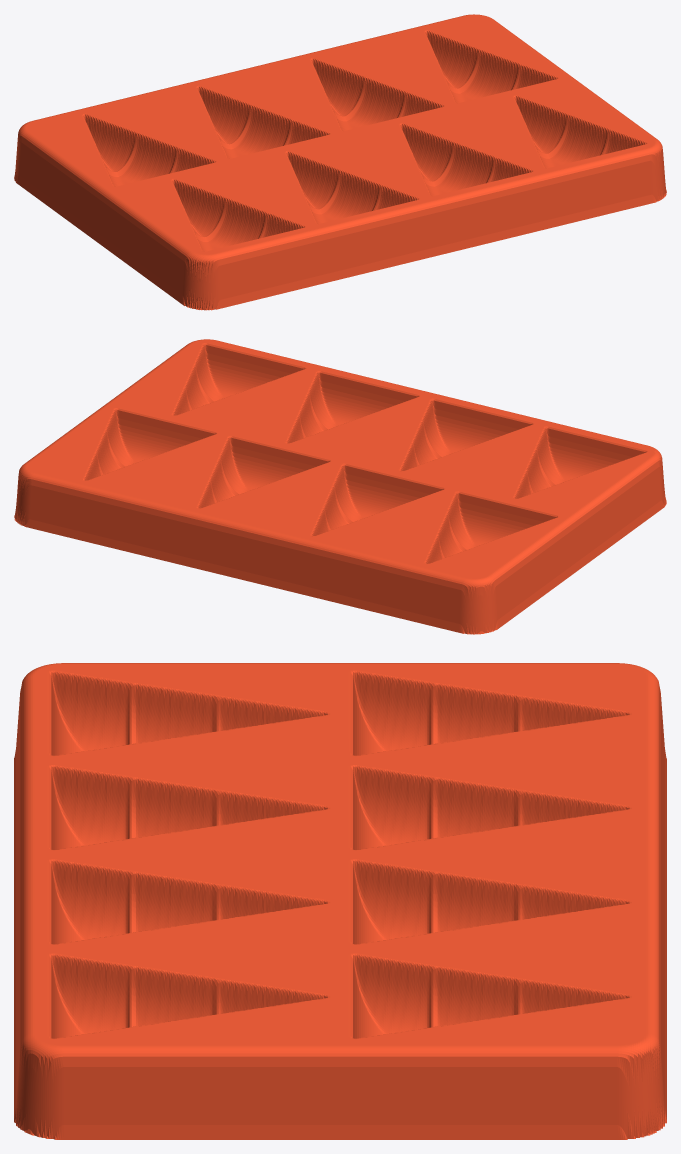
Rendered from mold.glb.
The picture shows the model from 3 angles, top to bottom: view 1: azimuth 30°, elevation 25°; view 2: azimuth 150°, elevation 25°; view 3: azimuth 270°, elevation 25°; orthographic projection. The views are drawn at different scales.
Visible parts, largest first — view 1: geometry_0; view 2: geometry_0; view 3: geometry_0.
Part boxes in pixels (x1,y1,x2,y2): geometry_0: (14,14,666,310); geometry_0: (14,339,666,634); geometry_0: (14,663,666,1139).
Bounding box in the file's own units: 0.1745 × 0.0175 × 0.1209.
